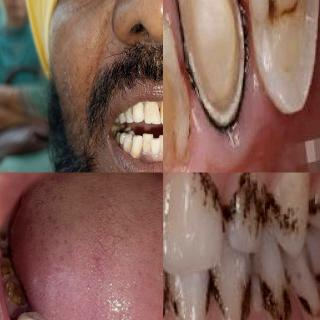calculus: (126, 106, 134, 119)
cavities: (0, 233, 20, 278)
maligned: (14, 309, 53, 320), (141, 132, 155, 156), (150, 136, 162, 157), (132, 134, 142, 158), (159, 133, 163, 155)
plaque: (141, 105, 148, 118)
stains: (188, 172, 222, 220), (262, 192, 299, 232), (232, 172, 256, 232), (261, 281, 293, 319), (237, 270, 249, 320), (205, 272, 224, 300), (163, 280, 177, 312), (309, 185, 320, 224), (295, 295, 316, 312), (141, 135, 152, 153), (123, 139, 133, 153), (157, 106, 163, 122)
